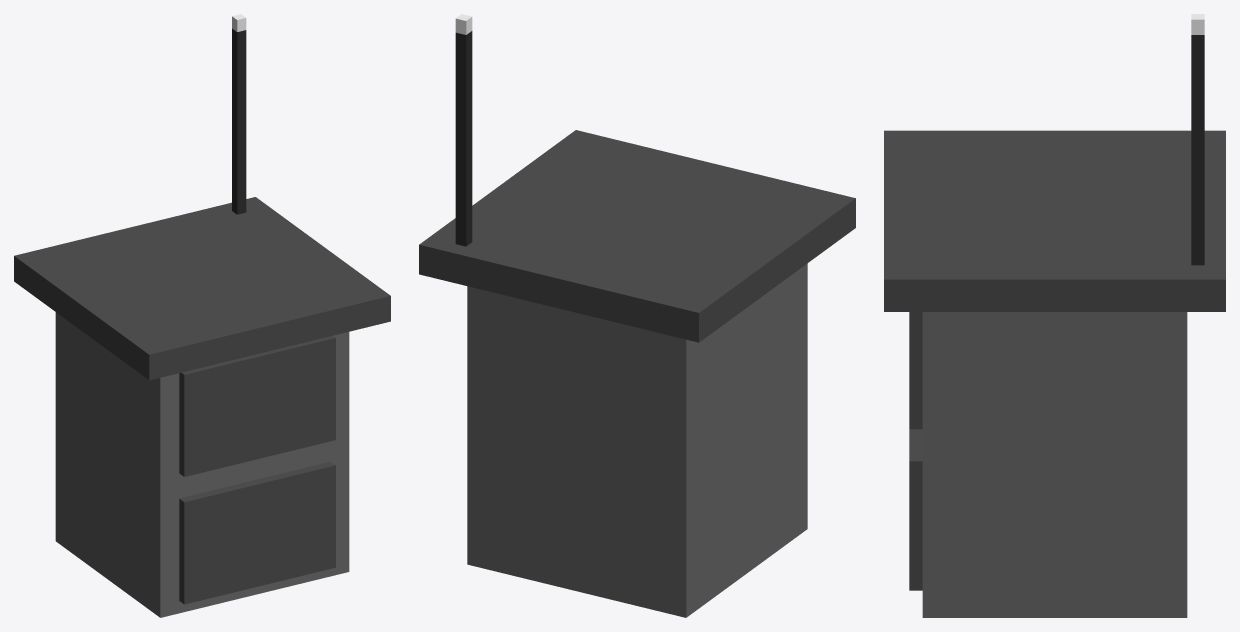
File: Orellian_Nighstand_01.fbx
3 views of the same model, side by side, from view 1: azimuth 30°, elevation 25°; view 2: azimuth 150°, elevation 25°; view 3: azimuth 270°, elevation 25° (orthographic). The views are drawn at different scales.
Visible parts, largest first — view 1: Orellian_Nighstand_01; view 2: Orellian_Nighstand_01; view 3: Orellian_Nighstand_01.
Boxes of the visible parts, x1,y1,x2,y2 form: Orellian_Nighstand_01: (14, 14, 390, 617); Orellian_Nighstand_01: (419, 14, 855, 617); Orellian_Nighstand_01: (884, 14, 1225, 617).
Bounding box in the file's own units: 1.37 × 2.58 × 1.33.
